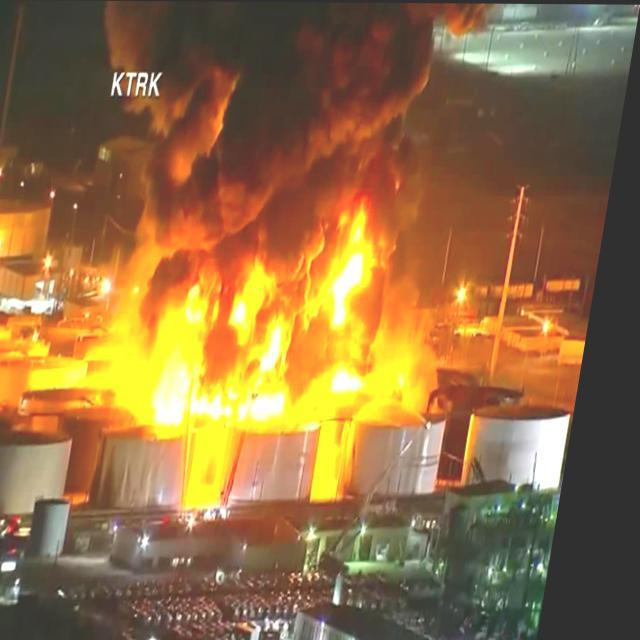Fire: (220, 271, 319, 434), (315, 198, 393, 336), (140, 308, 226, 431), (326, 349, 382, 405)
